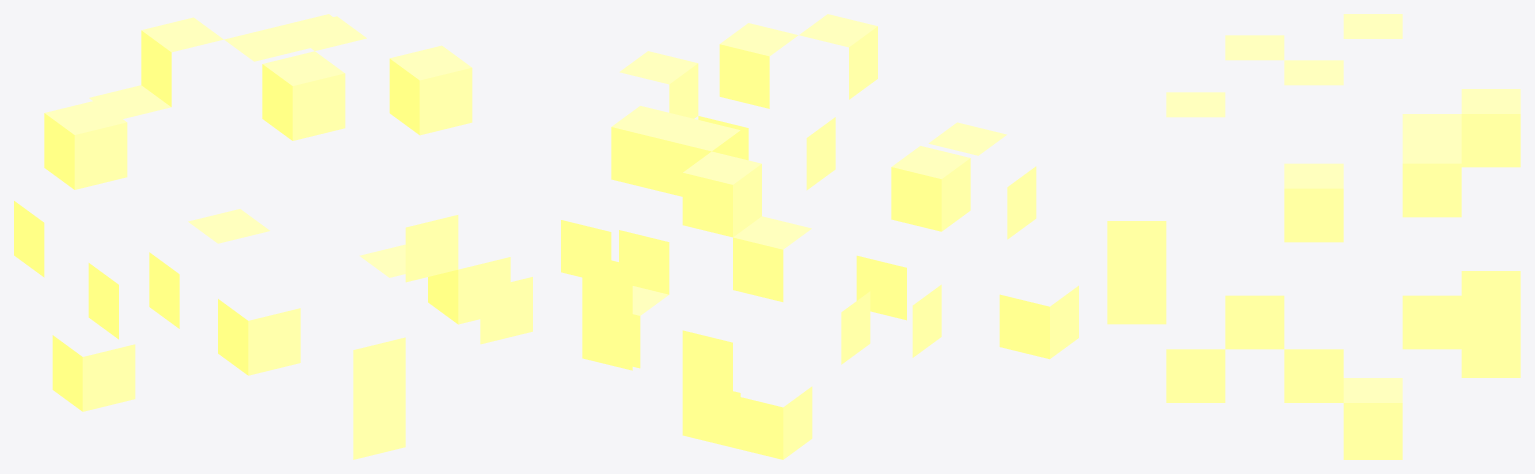
Rendered from tree-maple-0p9-gold-ffd76a.gltf.
The picture shows the model from 3 angles, left to right: view 1: azimuth 30°, elevation 25°; view 2: azimuth 150°, elevation 25°; view 3: azimuth 270°, elevation 25°; orthographic projection. The views are drawn at different scales.
Parts seen in each view (by area): view 1: tree-maple-0p9-gold-ffd76a; view 2: tree-maple-0p9-gold-ffd76a; view 3: tree-maple-0p9-gold-ffd76a.
Part boxes in pixels (bbox=[...]): tree-maple-0p9-gold-ffd76a: bbox=[14, 14, 532, 459]; tree-maple-0p9-gold-ffd76a: bbox=[561, 14, 1078, 459]; tree-maple-0p9-gold-ffd76a: bbox=[1107, 14, 1520, 459].
Size of the model in its own units: 8 by 7 by 7.
